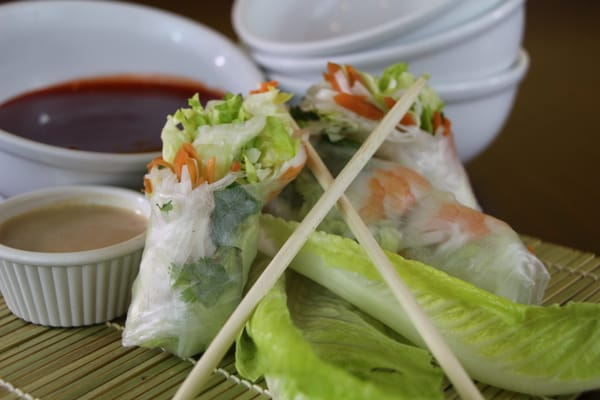sushi: (0, 2, 268, 203), (230, 0, 530, 164), (0, 73, 269, 200), (230, 1, 531, 81), (0, 184, 151, 329)
